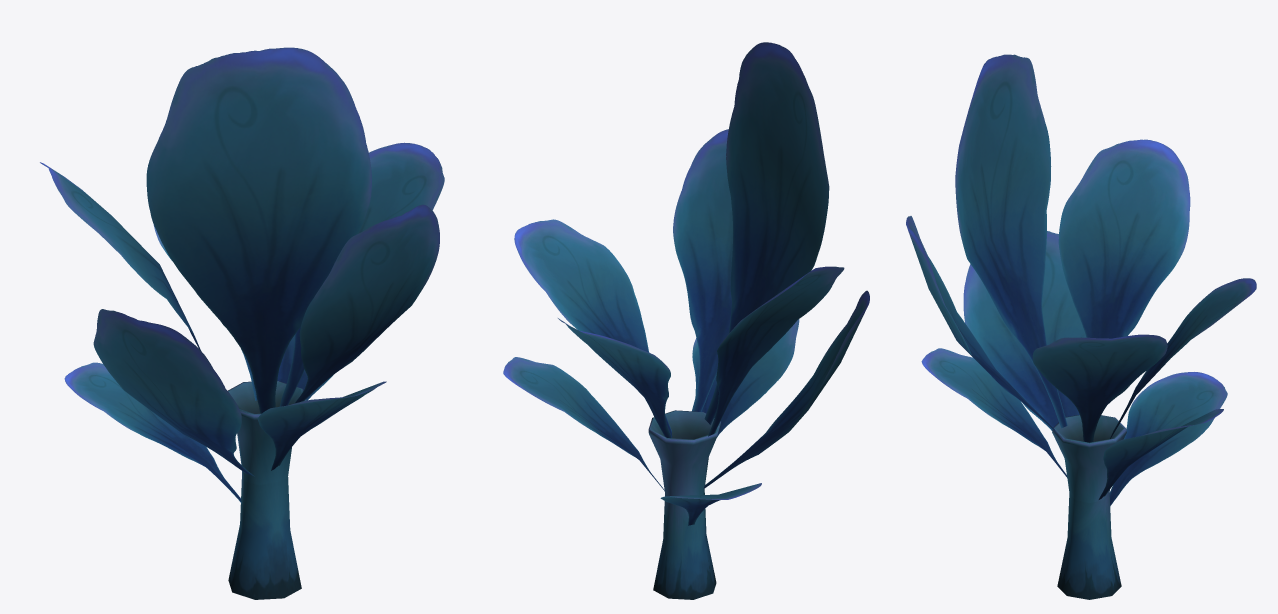
The model's file is plant2.fbx.
The picture shows the model from 3 angles, left to right: view 1: azimuth 30°, elevation 25°; view 2: azimuth 150°, elevation 25°; view 3: azimuth 270°, elevation 25°; orthographic projection. The views are drawn at different scales.
Parts seen in each view (by area): view 1: plant2; view 2: plant2; view 3: plant2.
Boxes of the visible parts, box(x1,y1,x2,y2) form: plant2: box(40, 47, 444, 599); plant2: box(503, 42, 869, 599); plant2: box(906, 54, 1256, 599).
Size of the model in its own units: 127 by 187 by 116.
